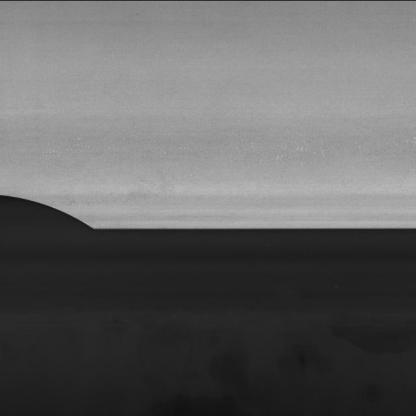crescent_gap: (0, 188, 100, 236)
